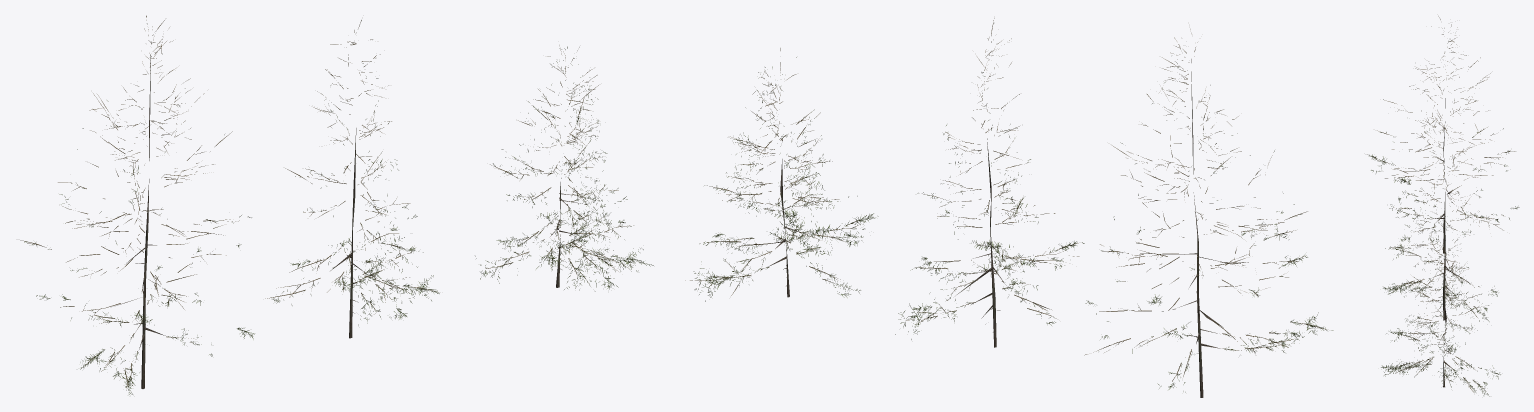
File: fir_sapling_medium.lod.glb
3 views of the same model, side by side, from view 1: azimuth 30°, elevation 25°; view 2: azimuth 150°, elevation 25°; view 3: azimuth 270°, elevation 25° (orthographic). The views are drawn at different scales.
Visible parts, largest first — view 1: fir_sapling_medium_a_LOD0; view 2: fir_sapling_medium_a_LOD0; view 3: fir_sapling_medium_a_LOD0.
Boxes of the visible parts, x1=… form: fir_sapling_medium_a_LOD0: x1=20, y1=15, x2=653, y2=394; fir_sapling_medium_a_LOD0: x1=685, y1=18, x2=1333, y2=397; fir_sapling_medium_a_LOD0: x1=1367, y1=16, x2=1519, y2=396.
Bounding box in the file's own units: 14.46 × 8.56 × 4.94.
Materials: 3 (3 with a texture image).
